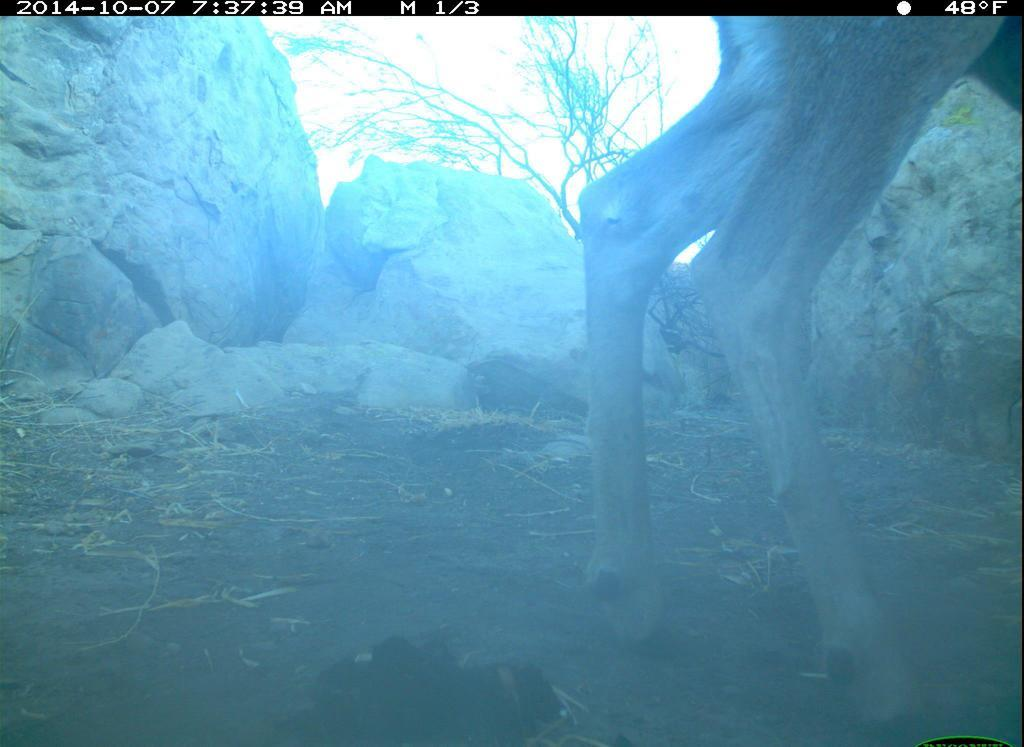deer: (574, 15, 1023, 747)
